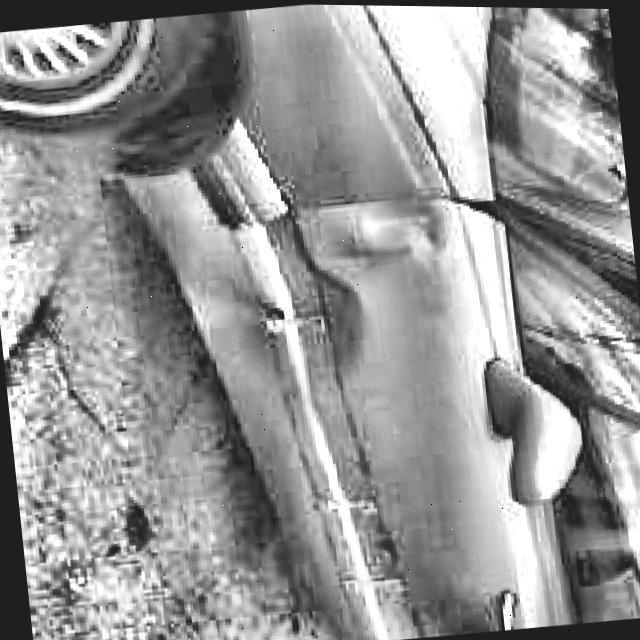door_dent: (239, 190, 455, 399)
